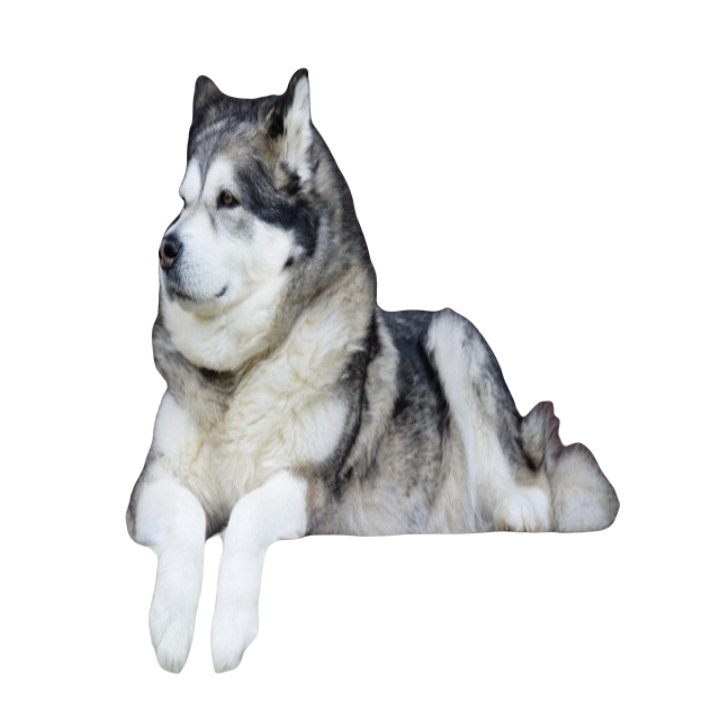Dog: (128, 66, 621, 678)
